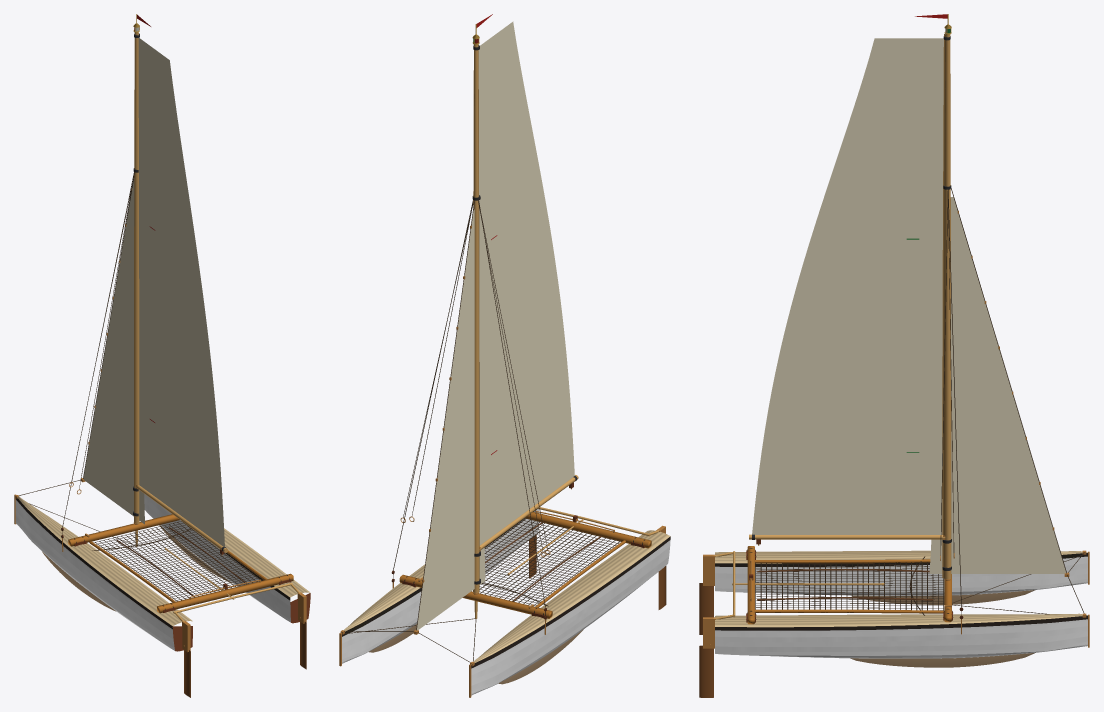
The model's file is beach-cat.glb.
3 views of the same model, side by side, from view 1: azimuth 30°, elevation 25°; view 2: azimuth 150°, elevation 25°; view 3: azimuth 270°, elevation 25° (orthographic). The views are drawn at different scales.
Parts seen in each view (by area): view 1: sail, hull, jib, mast, daggerboard, rudder-starboard, rudder-port, boom; view 2: sail, hull, jib, mast, daggerboard, boom; view 3: sail, hull, jib, mast, daggerboard, rudder-starboard, rudder-port, boom.
Part boxes in pixels (left/top/right/bottom): sail: left=138, top=38, right=224, bottom=547; hull: left=14, top=494, right=310, bottom=651; jib: left=83, top=178, right=144, bottom=524; mast: left=15, top=33, right=139, bottom=551; daggerboard: left=42, top=525, right=232, bottom=611; rudder-starboard: left=290, top=583, right=306, bottom=669; rudder-port: left=174, top=612, right=190, bottom=697; boom: left=136, top=485, right=228, bottom=552; sail: left=478, top=21, right=574, bottom=544; hull: left=339, top=509, right=670, bottom=697; jib: left=416, top=209, right=485, bottom=630; mast: left=340, top=45, right=546, bottom=666; daggerboard: left=369, top=624, right=583, bottom=684; boom: left=479, top=475, right=578, bottom=551; sail: left=752, top=38, right=943, bottom=534; hull: left=715, top=546, right=1089, bottom=658; jib: left=929, top=197, right=1066, bottom=573; mast: left=942, top=34, right=1086, bottom=634; daggerboard: left=850, top=590, right=1035, bottom=667; rudder-starboard: left=699, top=614, right=732, bottom=697; rudder-port: left=699, top=551, right=733, bottom=634; boom: left=749, top=534, right=945, bottom=539.
Bounding box in the file's own units: 2.41 × 9.69 × 5.26.
